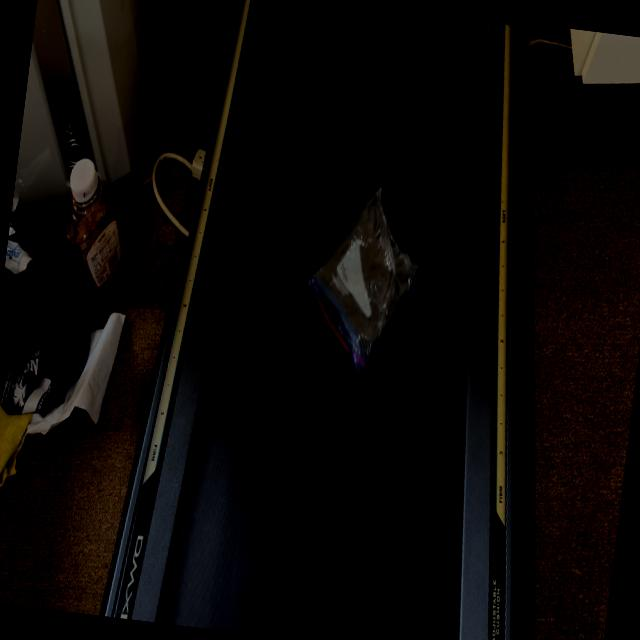Recycle: (296, 176, 428, 378)
